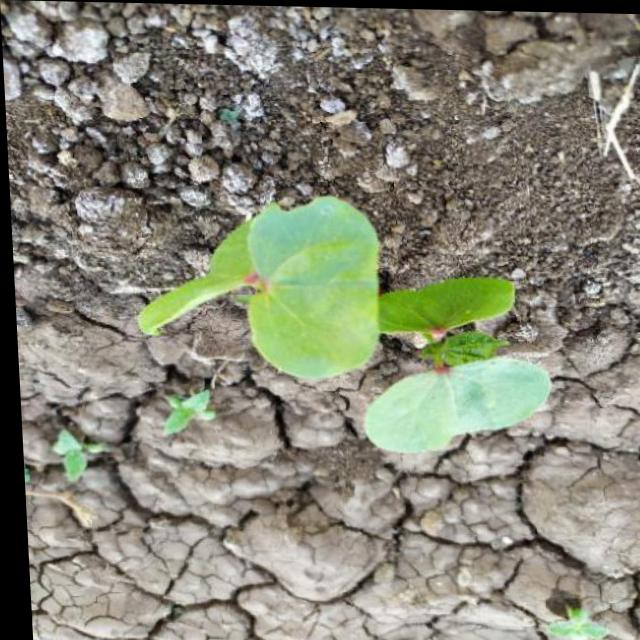weed: (125, 177, 556, 462)
